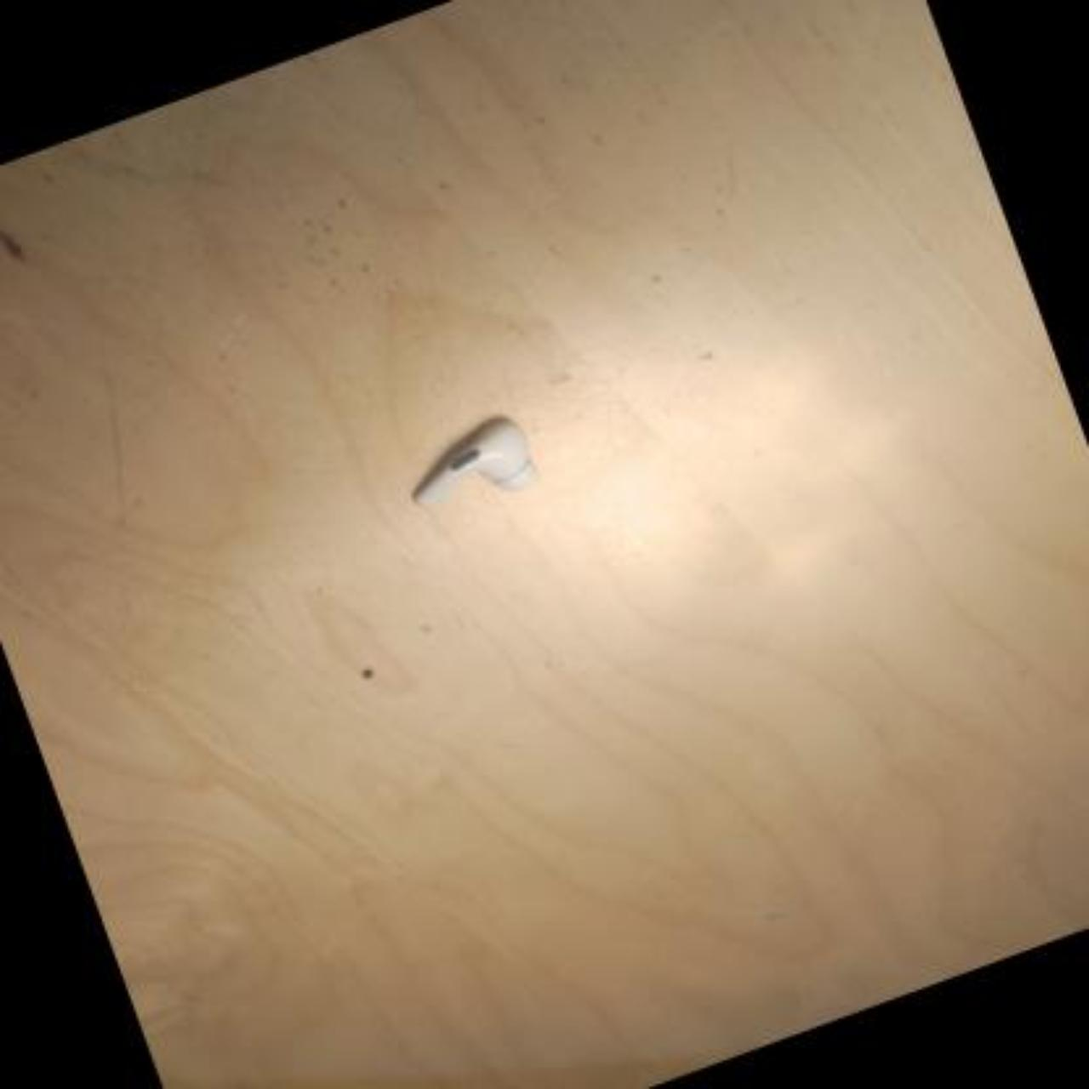Airpods_Units: (388, 407, 547, 527)
